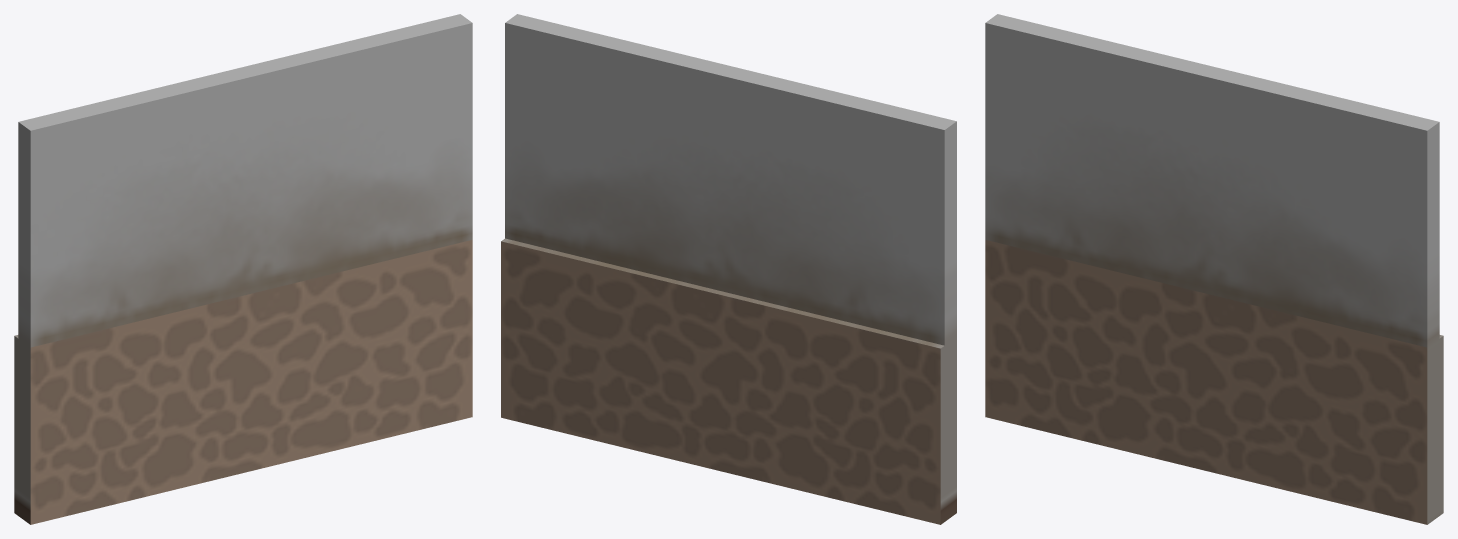
Rendered from WhiteBrown_ModularLowWall.fbx.
3 views of the same model, side by side, from view 1: azimuth 30°, elevation 25°; view 2: azimuth 150°, elevation 25°; view 3: azimuth 330°, elevation 25° (orthographic).
Parts seen in each view (by area): view 1: Cube.018; view 2: Cube.018; view 3: Cube.018.
Part boxes in pixels (box(x1,y1,x2,y2)): Cube.018: box(14, 14, 472, 524); Cube.018: box(501, 14, 956, 524); Cube.018: box(985, 14, 1443, 524).
Size of the model in its own units: 4.14 by 3.53 by 0.2635.
